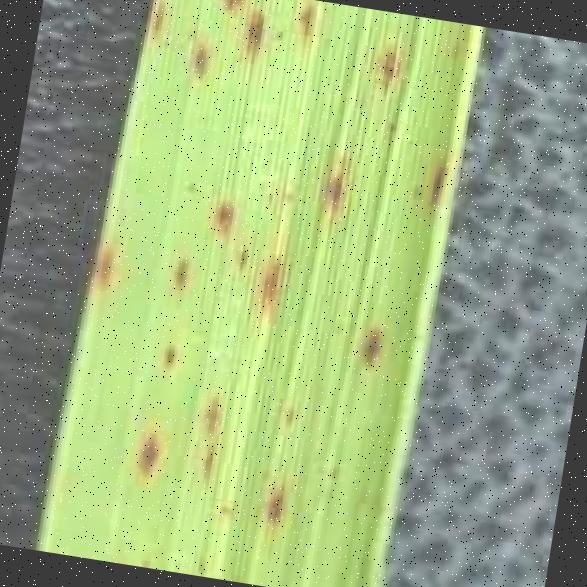Brown_Spot: (307, 140, 378, 219), (339, 308, 394, 380), (357, 31, 414, 94), (250, 472, 306, 532), (123, 418, 169, 484), (191, 186, 248, 238), (249, 246, 292, 314), (187, 382, 233, 445), (77, 232, 125, 292), (417, 144, 452, 217), (174, 27, 218, 84), (226, 1, 269, 48), (288, 0, 328, 44), (268, 392, 304, 434), (153, 328, 183, 374), (163, 247, 193, 289), (141, 0, 173, 38), (224, 236, 252, 270), (213, 0, 247, 11)
